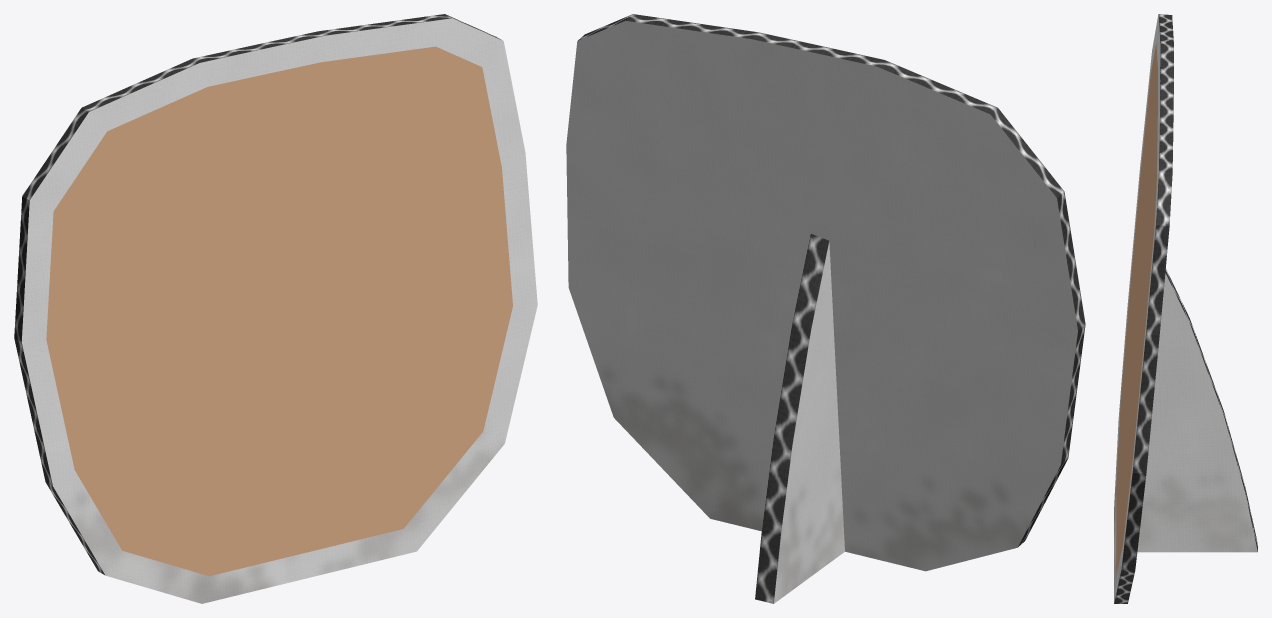
Rendered from Blueprint_Menu_Pappaufsteller.fbx.
3 views of the same model, side by side, from view 1: azimuth 30°, elevation 25°; view 2: azimuth 150°, elevation 25°; view 3: azimuth 270°, elevation 25° (orthographic). The views are drawn at different scales.
Visible parts, largest first — view 1: Cardboard; view 2: Cardboard; view 3: Cardboard.
Part boxes in pixels (x1,y1,x2,y2): Cardboard: [14, 14, 537, 603]; Cardboard: [566, 14, 1085, 603]; Cardboard: [1114, 14, 1257, 603].
Bounding box in the file's own units: 270 × 71.61 × 260.
